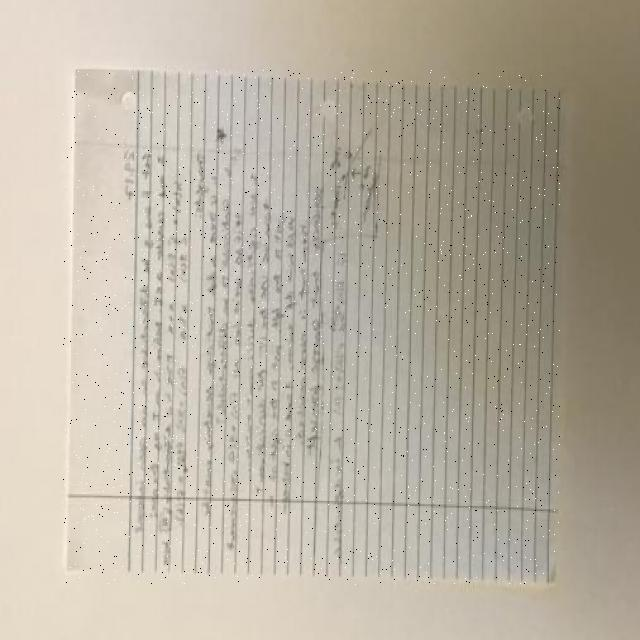paper: (64, 71, 560, 585)
